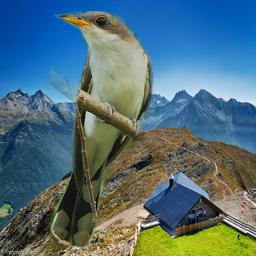Cuckoo: (50, 11, 154, 248)
